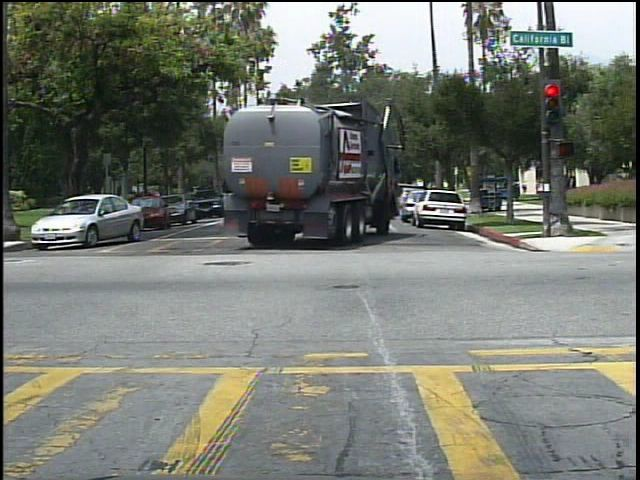person: (565, 169, 584, 199), (518, 176, 532, 196)
